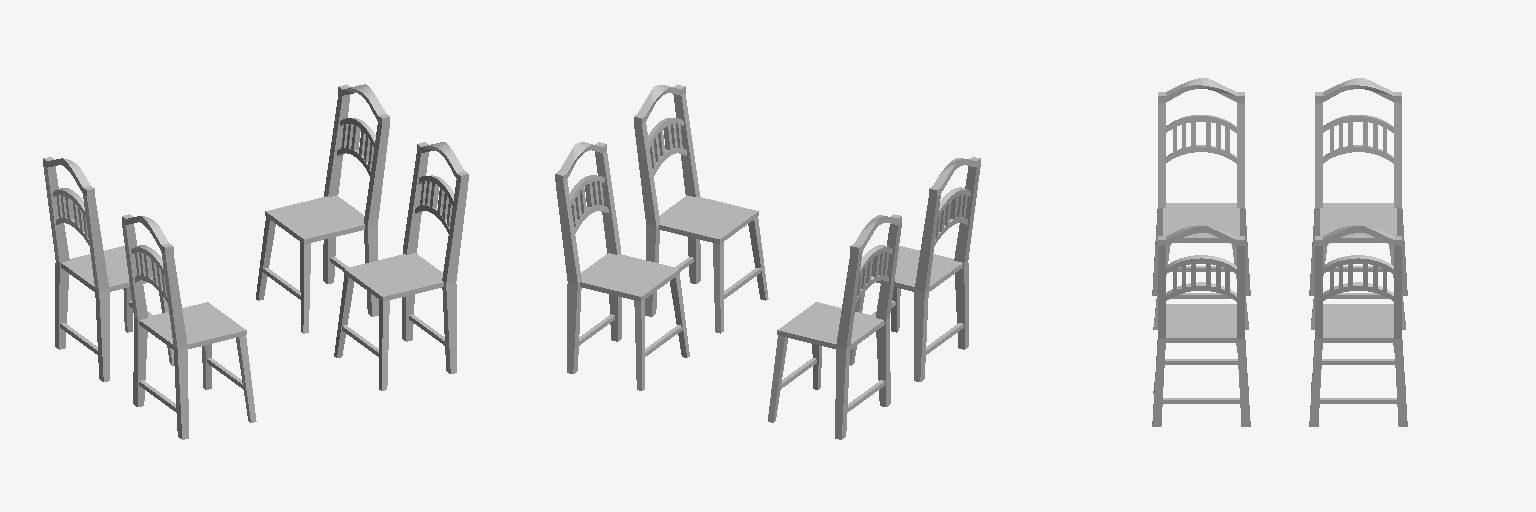
File: fourchairs.obj
3 renders of one model, left to right at view 1: azimuth 30°, elevation 25°; view 2: azimuth 150°, elevation 25°; view 3: azimuth 270°, elevation 25°, orthographic.
Visible parts, largest first — view 1: 立方体.031; view 2: 立方体.031; view 3: 立方体.031.
Boxes of the visible parts, box(x1,y1,x2,y2) form: 立方体.031: box(43, 84, 468, 439); 立方体.031: box(555, 84, 980, 439); 立方体.031: box(1152, 78, 1407, 426).
Bounding box in the file's own units: 1.97 × 1.3 × 1.44.